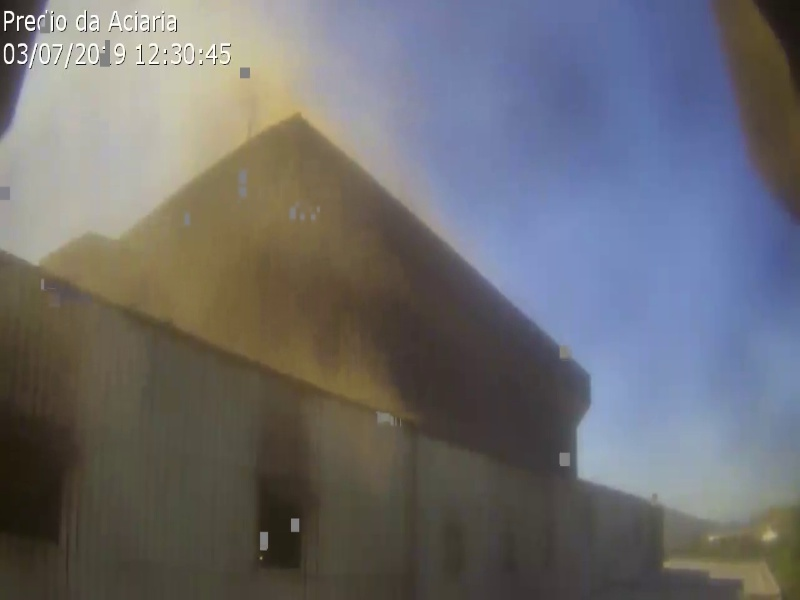Galpao: (2, 249, 594, 600)
Janela: (253, 477, 314, 573)
Pessimo: (140, 282, 188, 306), (105, 273, 153, 297), (75, 260, 123, 284), (175, 303, 223, 327), (193, 281, 241, 305), (209, 317, 257, 341), (245, 333, 293, 357), (287, 351, 335, 375)
